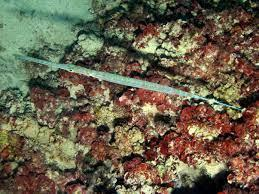Fistularia commersonii: (8, 36, 247, 122)
